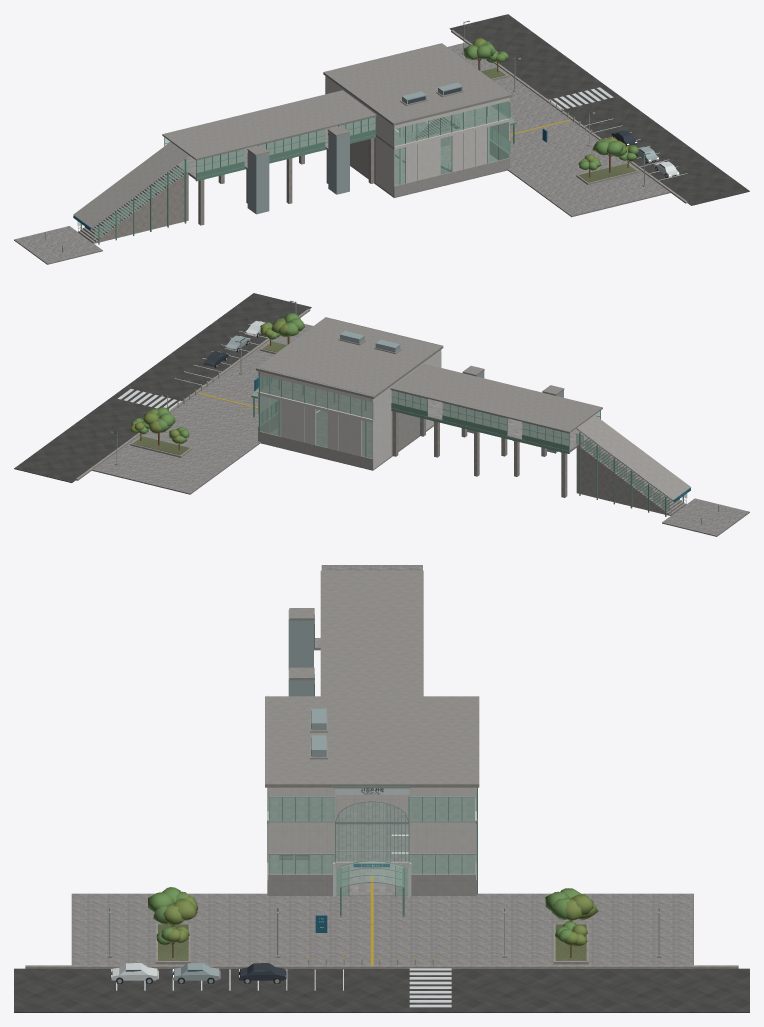
The model's file is SingilOncheon.fbx.
3 views of the same model, one above another, from view 1: azimuth 30°, elevation 25°; view 2: azimuth 150°, elevation 25°; view 3: azimuth 270°, elevation 25° (orthographic). The views are drawn at different scales.
Parts seen in each view (by area): view 1: South_Main_Roof; view 2: South_Main_Roof; view 3: South_Main_Roof.
Part boxes in pixels (bbox=[...]): South_Main_Roof: bbox=[14, 14, 749, 264]; South_Main_Roof: bbox=[14, 293, 749, 536]; South_Main_Roof: bbox=[14, 565, 749, 1012].
Size of the model in its own units: 9430 by 1215 by 6565.
Materials: 27 (9 with a texture image).
